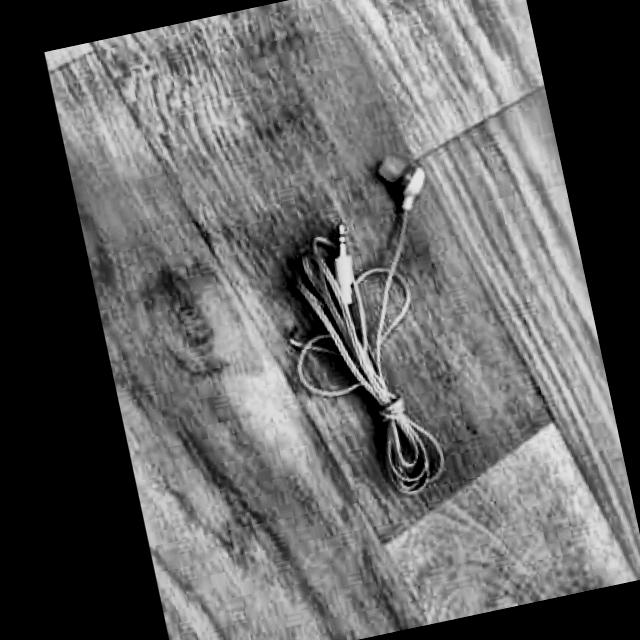Cable: (251, 145, 489, 512)
